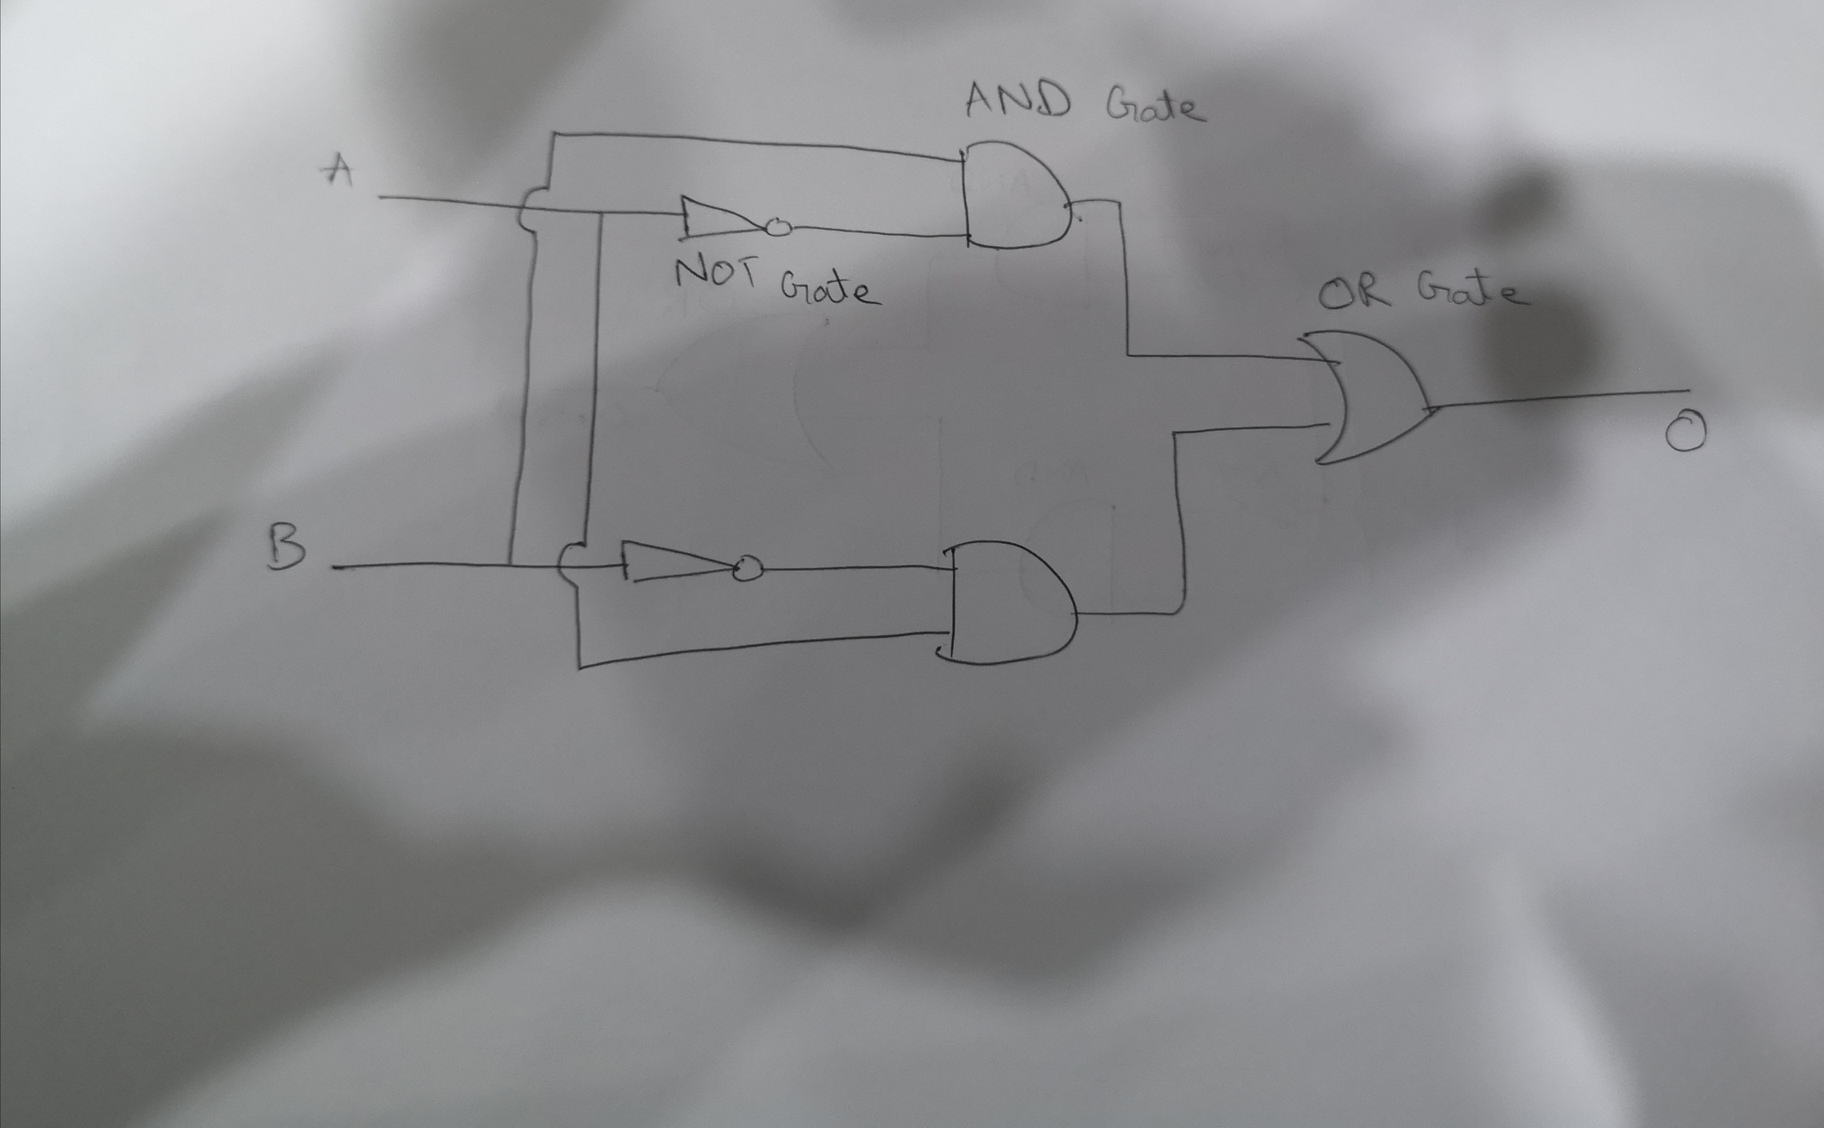and: (932, 533, 1087, 670), (956, 135, 1077, 258)
crossover: (551, 537, 594, 594), (515, 178, 555, 238)
junction: (1163, 595, 1196, 624), (495, 548, 522, 578), (590, 201, 612, 227), (1163, 422, 1187, 445), (1118, 343, 1139, 365), (545, 122, 564, 146), (1107, 191, 1130, 211), (571, 658, 589, 677)
not: (615, 533, 771, 587), (672, 188, 797, 247)
or: (1292, 320, 1446, 472)
terminal: (367, 188, 395, 208), (322, 557, 344, 580), (1678, 379, 1698, 399)
text: (954, 76, 1214, 130), (672, 251, 885, 311), (1315, 264, 1537, 314), (263, 513, 311, 574), (1659, 405, 1712, 456), (318, 146, 356, 195)
